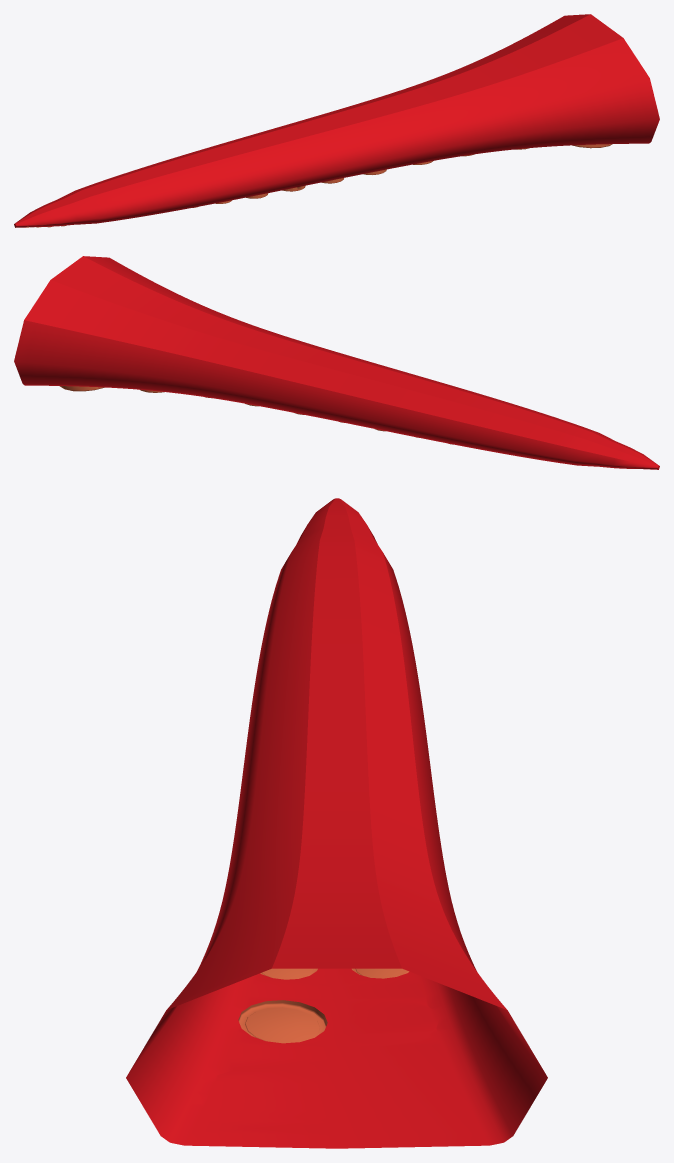
The model's file is chapadlo.fbx.
The picture shows the model from 3 angles, top to bottom: view 1: azimuth 30°, elevation 25°; view 2: azimuth 150°, elevation 25°; view 3: azimuth 270°, elevation 25°; orthographic projection. The views are drawn at different scales.
Parts seen in each view (by area): view 1: Cylinder.001; view 2: Cylinder.001; view 3: Cylinder.001.
Boxes of the visible parts, x1,y1,x2,y2 form: Cylinder.001: (14, 14, 659, 227); Cylinder.001: (14, 256, 659, 469); Cylinder.001: (126, 498, 547, 1148).
Bounding box in the file's own units: 4014 × 598 × 1240.
